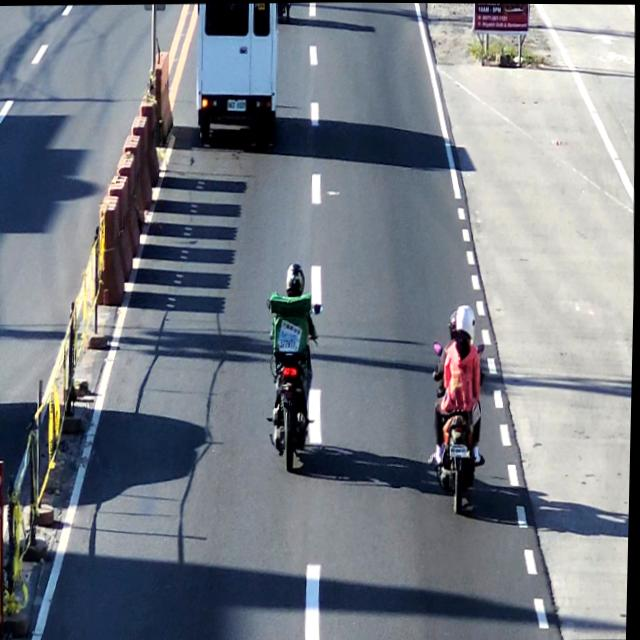Car: (193, 2, 278, 147)
License-Plate: (225, 95, 248, 111), (450, 440, 470, 457)
Motorcycle: (431, 305, 487, 520), (268, 260, 321, 473)
